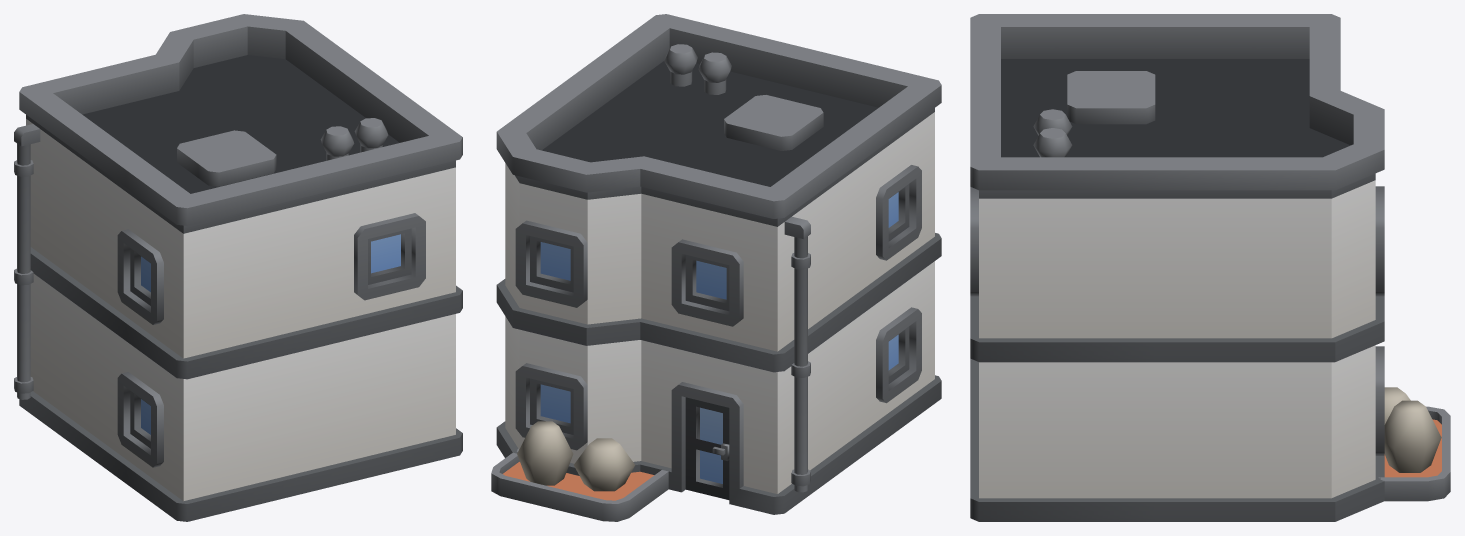
The model's file is com-building-c.glb.
3 renders of one model, left to right at view 1: azimuth 30°, elevation 25°; view 2: azimuth 150°, elevation 25°; view 3: azimuth 270°, elevation 25°, orthographic. The views are drawn at different scales.
Parts seen in each view (by area): view 1: building-c; view 2: building-c; view 3: building-c.
Part boxes in pixels (box(x1,y1,x2,y2)): building-c: box(14, 14, 462, 521); building-c: box(491, 14, 941, 521); building-c: box(970, 14, 1450, 521).
Size of the model in its own units: 0.8836 by 0.8931 by 1.09.
1 material, 1 textured.
